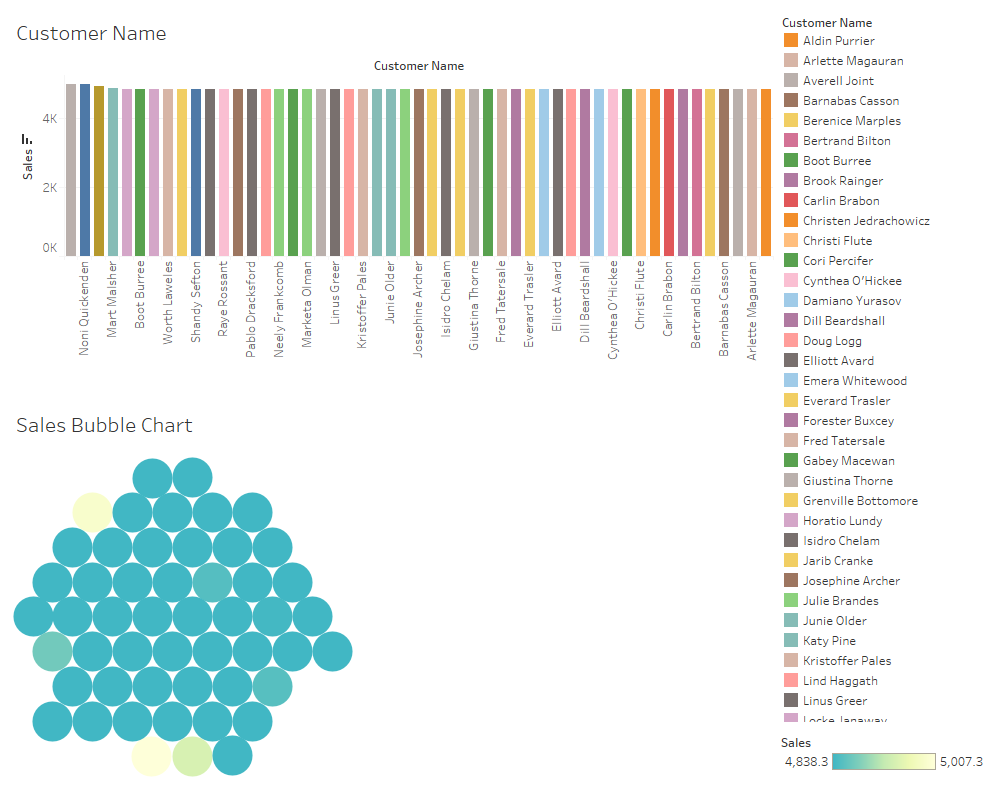

This screenshot's page, from the dashboard's own definition file:
{"tool":"tableau","page":{"name":"Little Lemon Dashboard","canvas":[1000,800],"ordinal":0},"visuals":[{"type":"worksheet","title":"Customer Name","mark":"Automatic","rows":["Sales"],"cols":["Customer Name"],"box":[8,8,769,392]},{"type":"legend","title":"Customer Name","param":"[federated.0ye55qi0hopppb10b0x0q06r6z8j].[none:Customer Name:nk]","box":[777,8,215,719]},{"type":"worksheet","title":"Sales Bubble Chart","mark":"Circle","box":[8,400,769,392]},{"type":"legend","title":"Sales Bubble Chart","param":"[federated.0ye55qi0hopppb10b0x0q06r6z8j].[sum:Sales:qk]","box":[777,727,215,65]}]}

Visuals, with their boxes in screenshot pixels (x1, y1, x2, y2), scaled from the page's 1000x800 canvas onto the 1000x800 screenshot:
"Customer Name" worksheet: bbox=[8, 8, 777, 400]
"Customer Name" legend: bbox=[777, 8, 992, 727]
"Sales Bubble Chart" worksheet (Circle marks): bbox=[8, 400, 777, 792]
"Sales Bubble Chart" legend: bbox=[777, 727, 992, 792]
